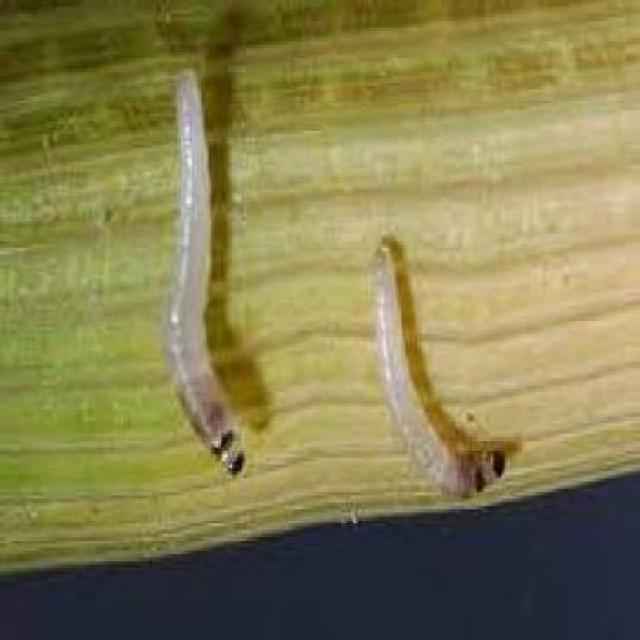whorl-maggot: (360, 229, 514, 502), (159, 65, 252, 482)
